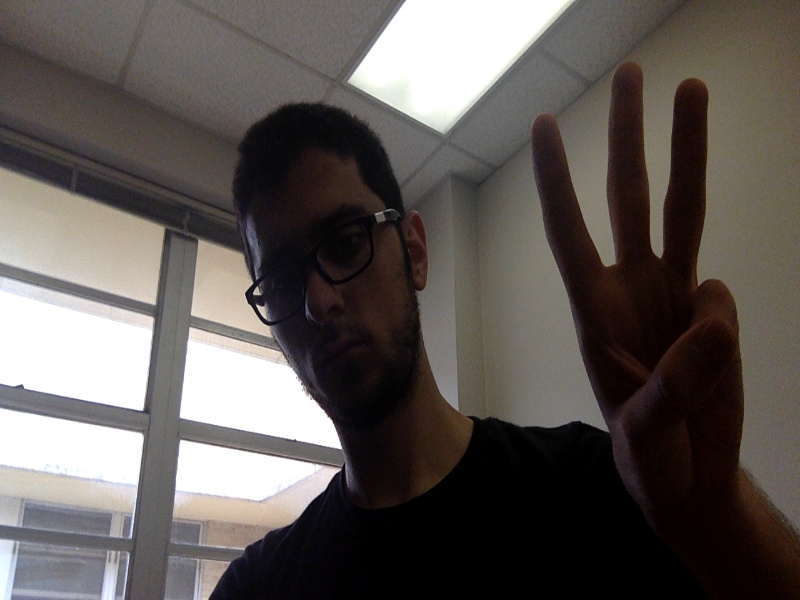3-hand: (530, 64, 744, 502)
